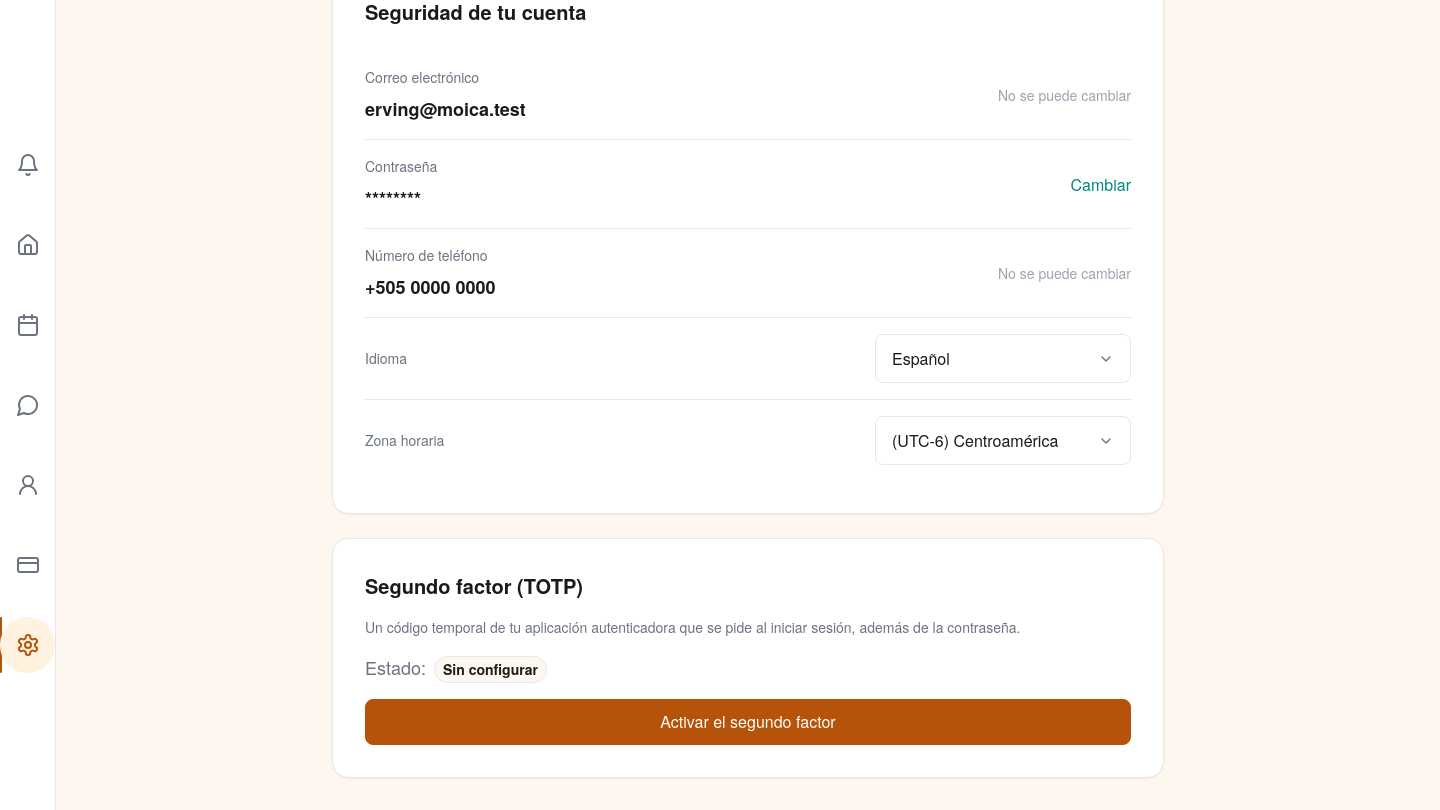
Test case: seguridad de la cuenta › segundo factor › olvida el secreto al salir de la pantalla y no lo reaparece al volver
The width and height of the screenshot is (1440, 810).
(page scrolled)
Click the button "Activar el segundo factor" at coordinates (748, 722), box [365,699,1131,745]
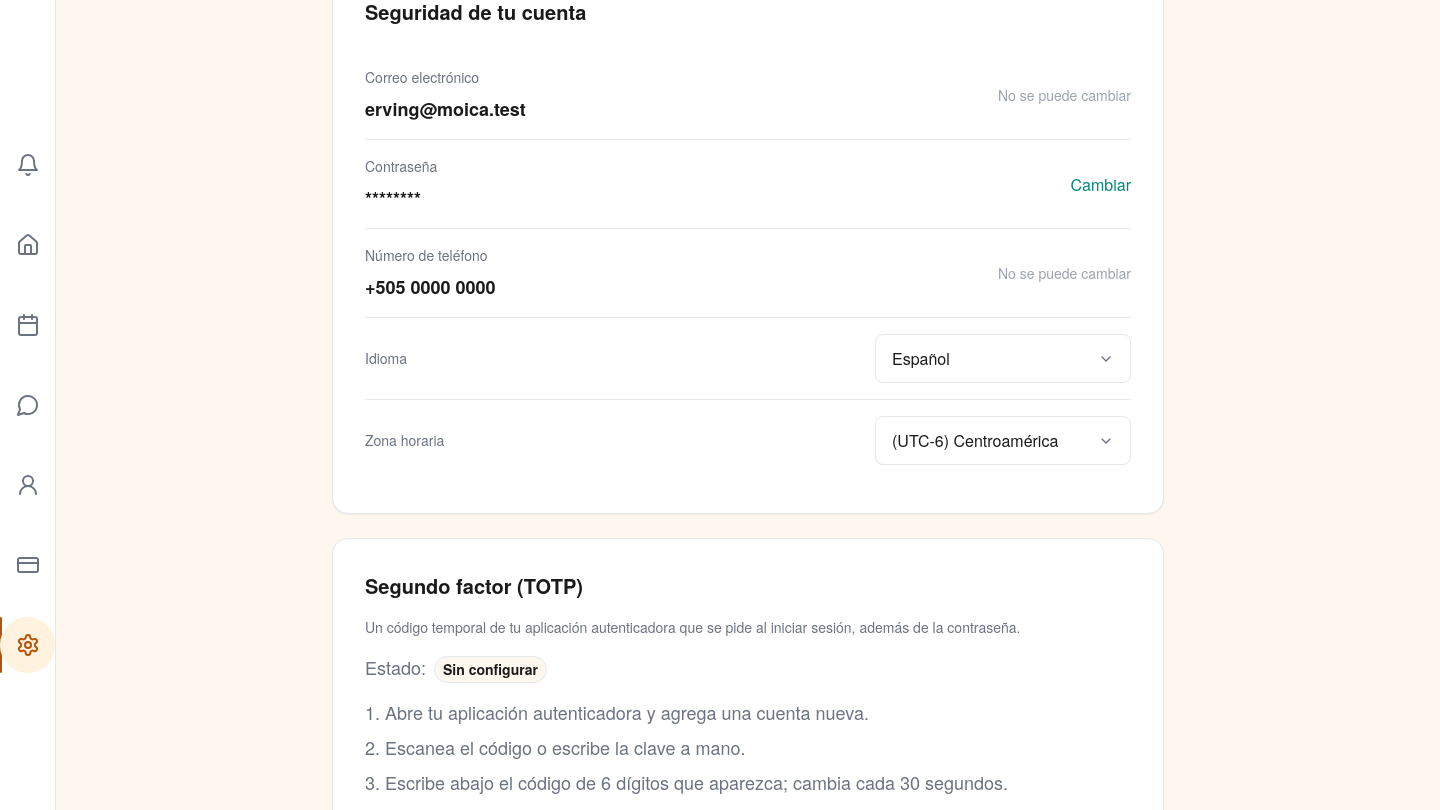
Click the link named "Inicio" at coordinates (28, 245), box [16,233,40,257]
(page scrolled)
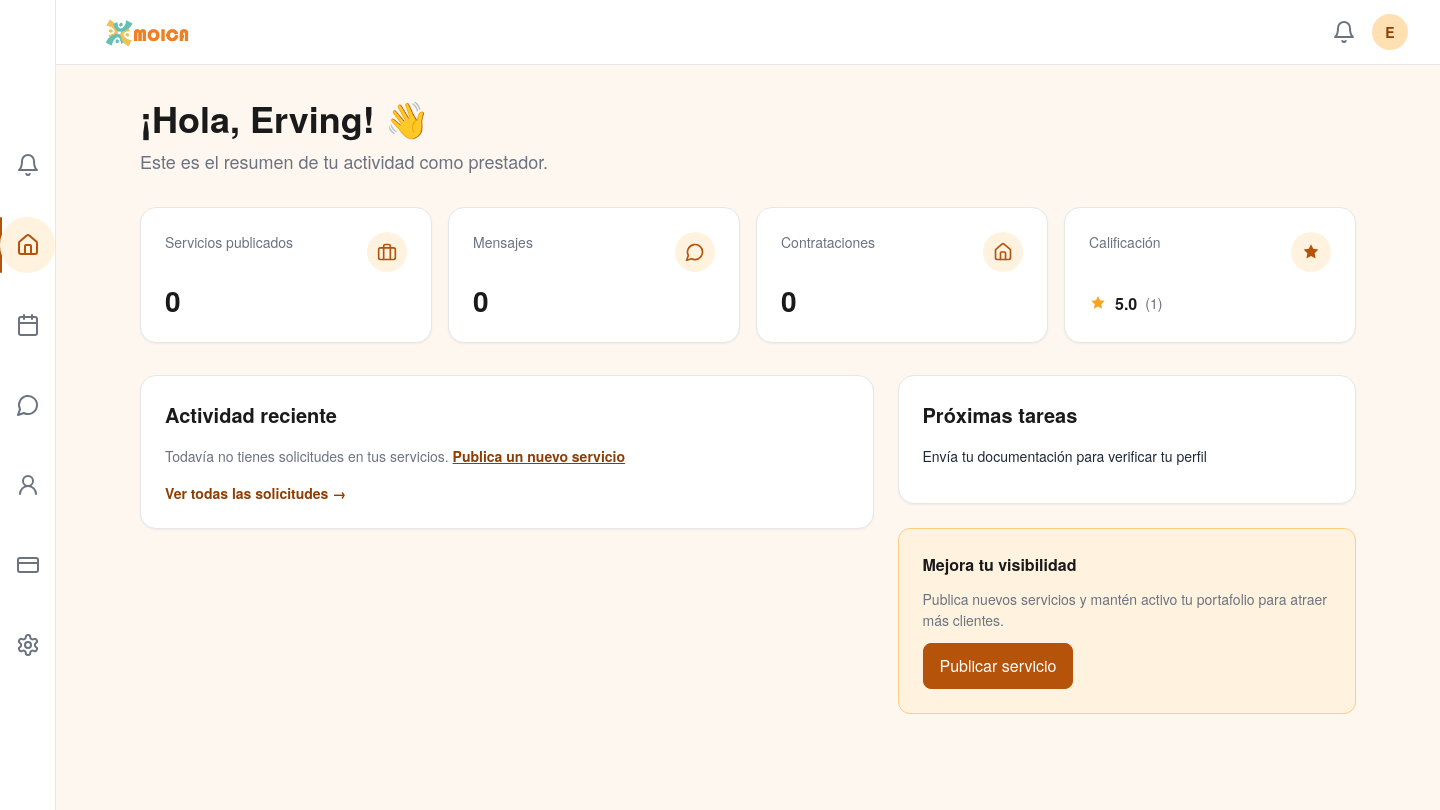
Now the heading "¡Hola, Erving! 👋" is shown, box [140,92,430,144]
Click the button named "Cuenta de Erving Miranda" at coordinates (1390, 32), box [1372,14,1408,50]
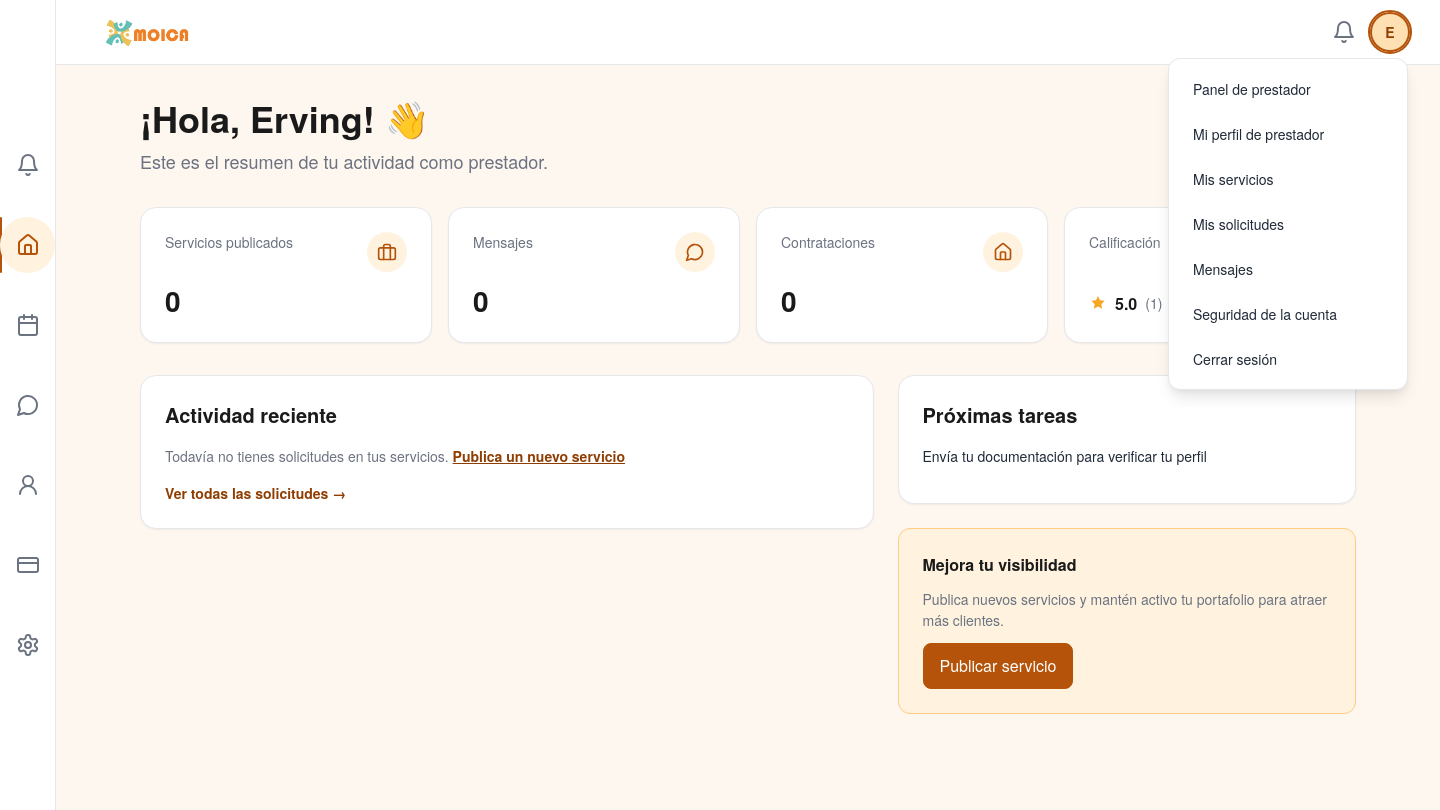
Click the link "Seguridad de la cuenta" at coordinates (1265, 314), box [1193,304,1337,324]
(page scrolled)
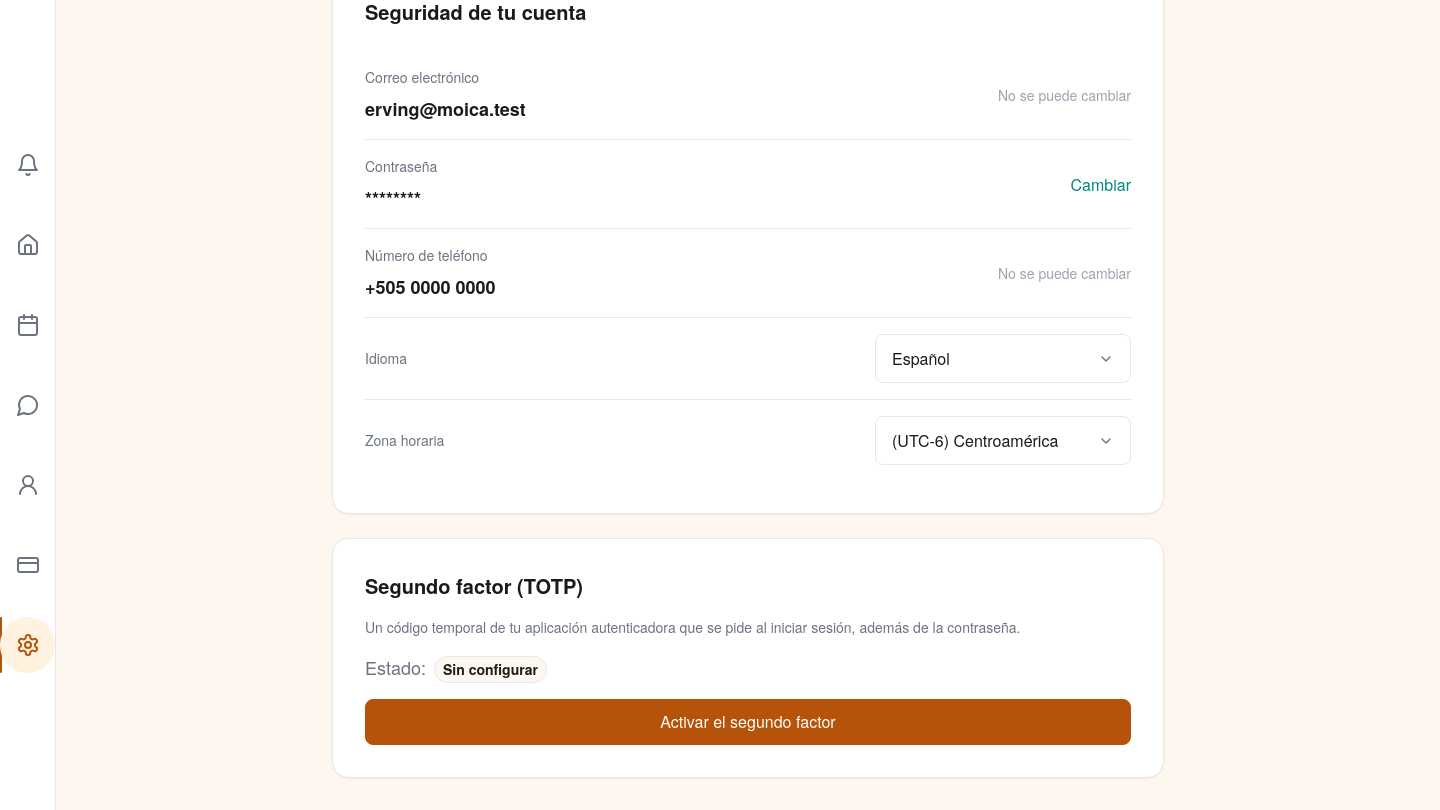
Now the button "Activar el segundo factor" is shown, box [365,699,1131,745]
